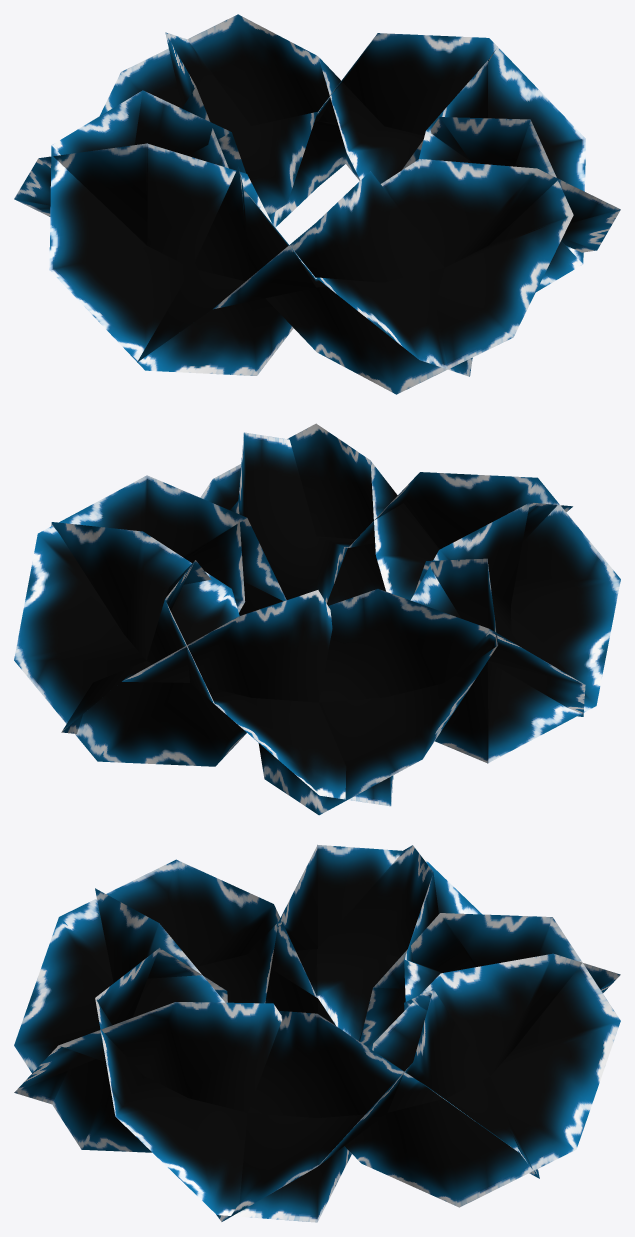
Rendered from TX_yuanxian_shandian.FBX.
The picture shows the model from 3 angles, top to bottom: view 1: azimuth 30°, elevation 25°; view 2: azimuth 150°, elevation 25°; view 3: azimuth 270°, elevation 25°; orthographic projection.
Visible parts, largest first — view 1: TX_yuanxian_shandian; view 2: TX_yuanxian_shandian; view 3: TX_yuanxian_shandian.
Boxes of the visible parts, bbox=[...] form: TX_yuanxian_shandian: bbox=[14, 14, 620, 394]; TX_yuanxian_shandian: bbox=[14, 423, 620, 815]; TX_yuanxian_shandian: bbox=[14, 844, 620, 1222].
Bounding box in the file's own units: 219 × 80 × 211.
